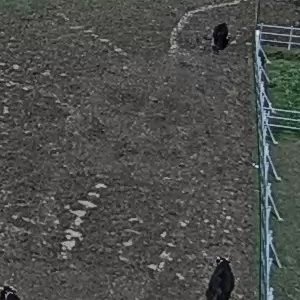cow: (199, 248, 243, 300), (204, 17, 242, 61)
